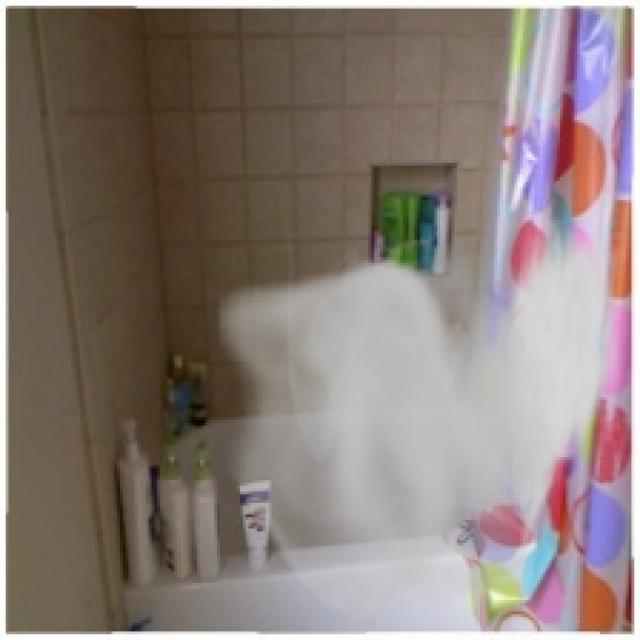smoke: (217, 208, 626, 632)
